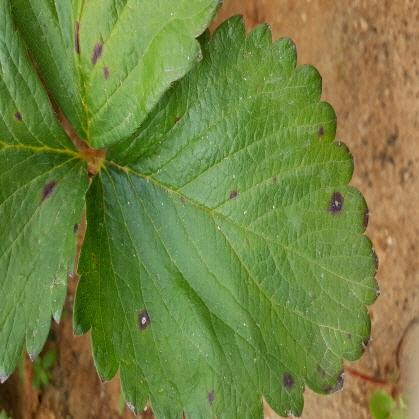Leaf Spot: (73, 13, 380, 418), (0, 0, 89, 387)
